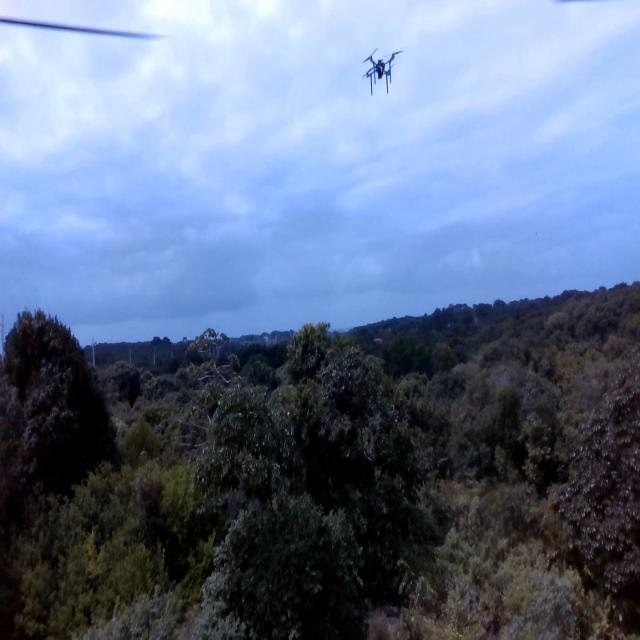-uav-: (357, 43, 403, 105)
